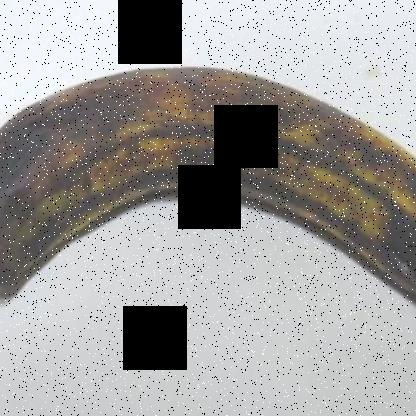overripe: (1, 43, 415, 331)
